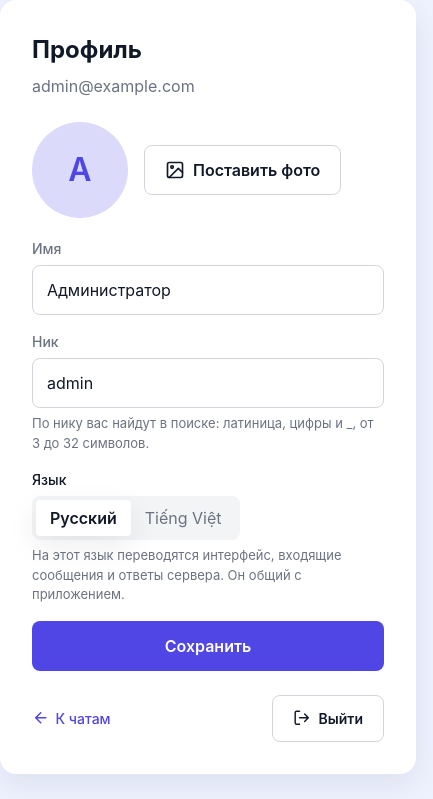
ProfileView: язык › сохраняет выбранный язык в профиле и переключается на него
Click the radio button labelled "Tiếng Việt": {"x": 183, "y": 518} [131, 500, 236, 536]
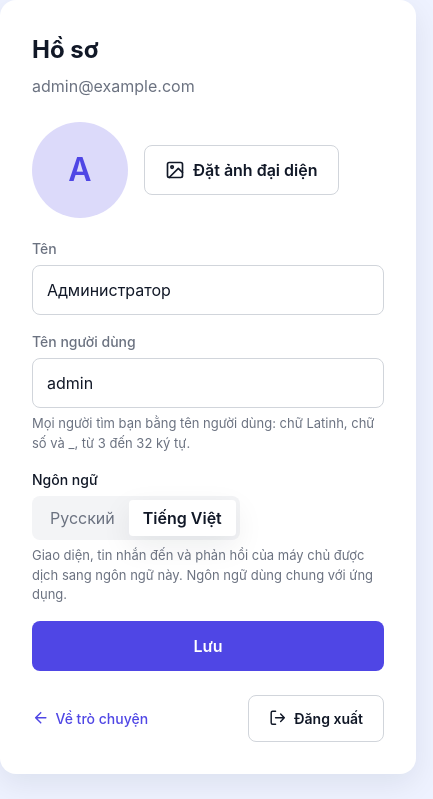
Expected: the text "Ngôn ngữ" is shown, [32, 469, 98, 490]
Expected: the submit button reads "Lưu", [32, 620, 384, 670]
